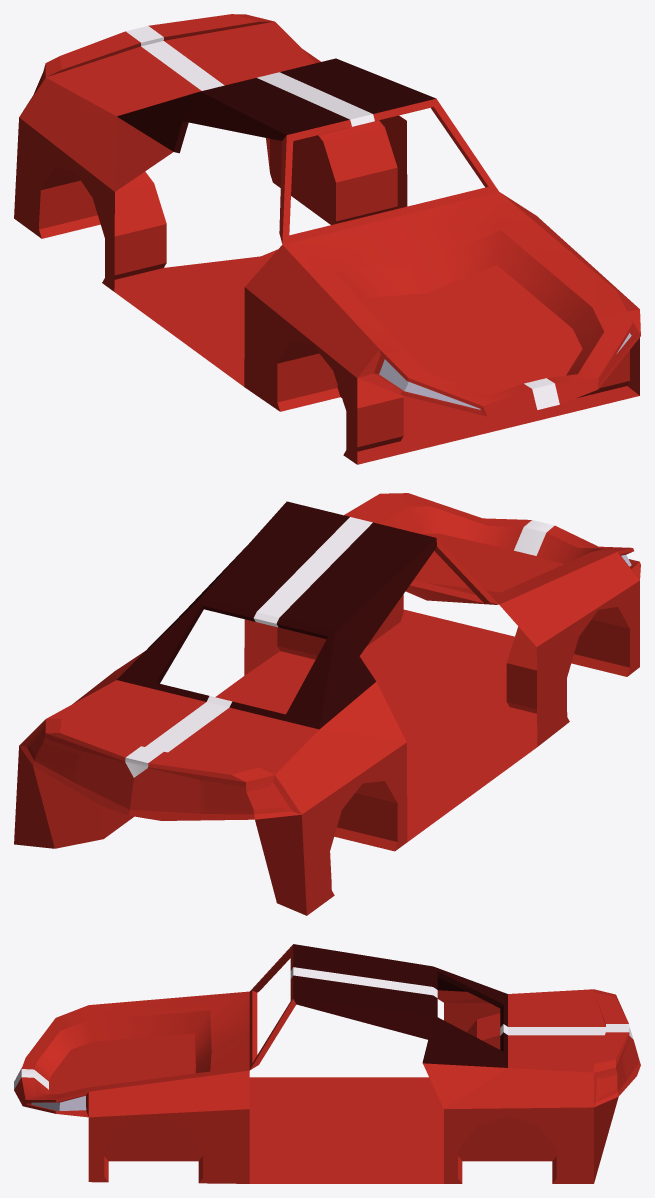
The model's file is car2Carcas.fbx.
The picture shows the model from 3 angles, top to bottom: view 1: azimuth 30°, elevation 25°; view 2: azimuth 150°, elevation 25°; view 3: azimuth 270°, elevation 25°; orthographic projection. The views are drawn at different scales.
Visible parts, largest first — view 1: carcas.001; view 2: carcas.001; view 3: carcas.001.
Part boxes in pixels (bbox=[...]): carcas.001: bbox=[14, 14, 640, 464]; carcas.001: bbox=[14, 493, 640, 915]; carcas.001: bbox=[14, 944, 640, 1183].
Bounding box in the file's own units: 2.3 × 1.6 × 5.71.
